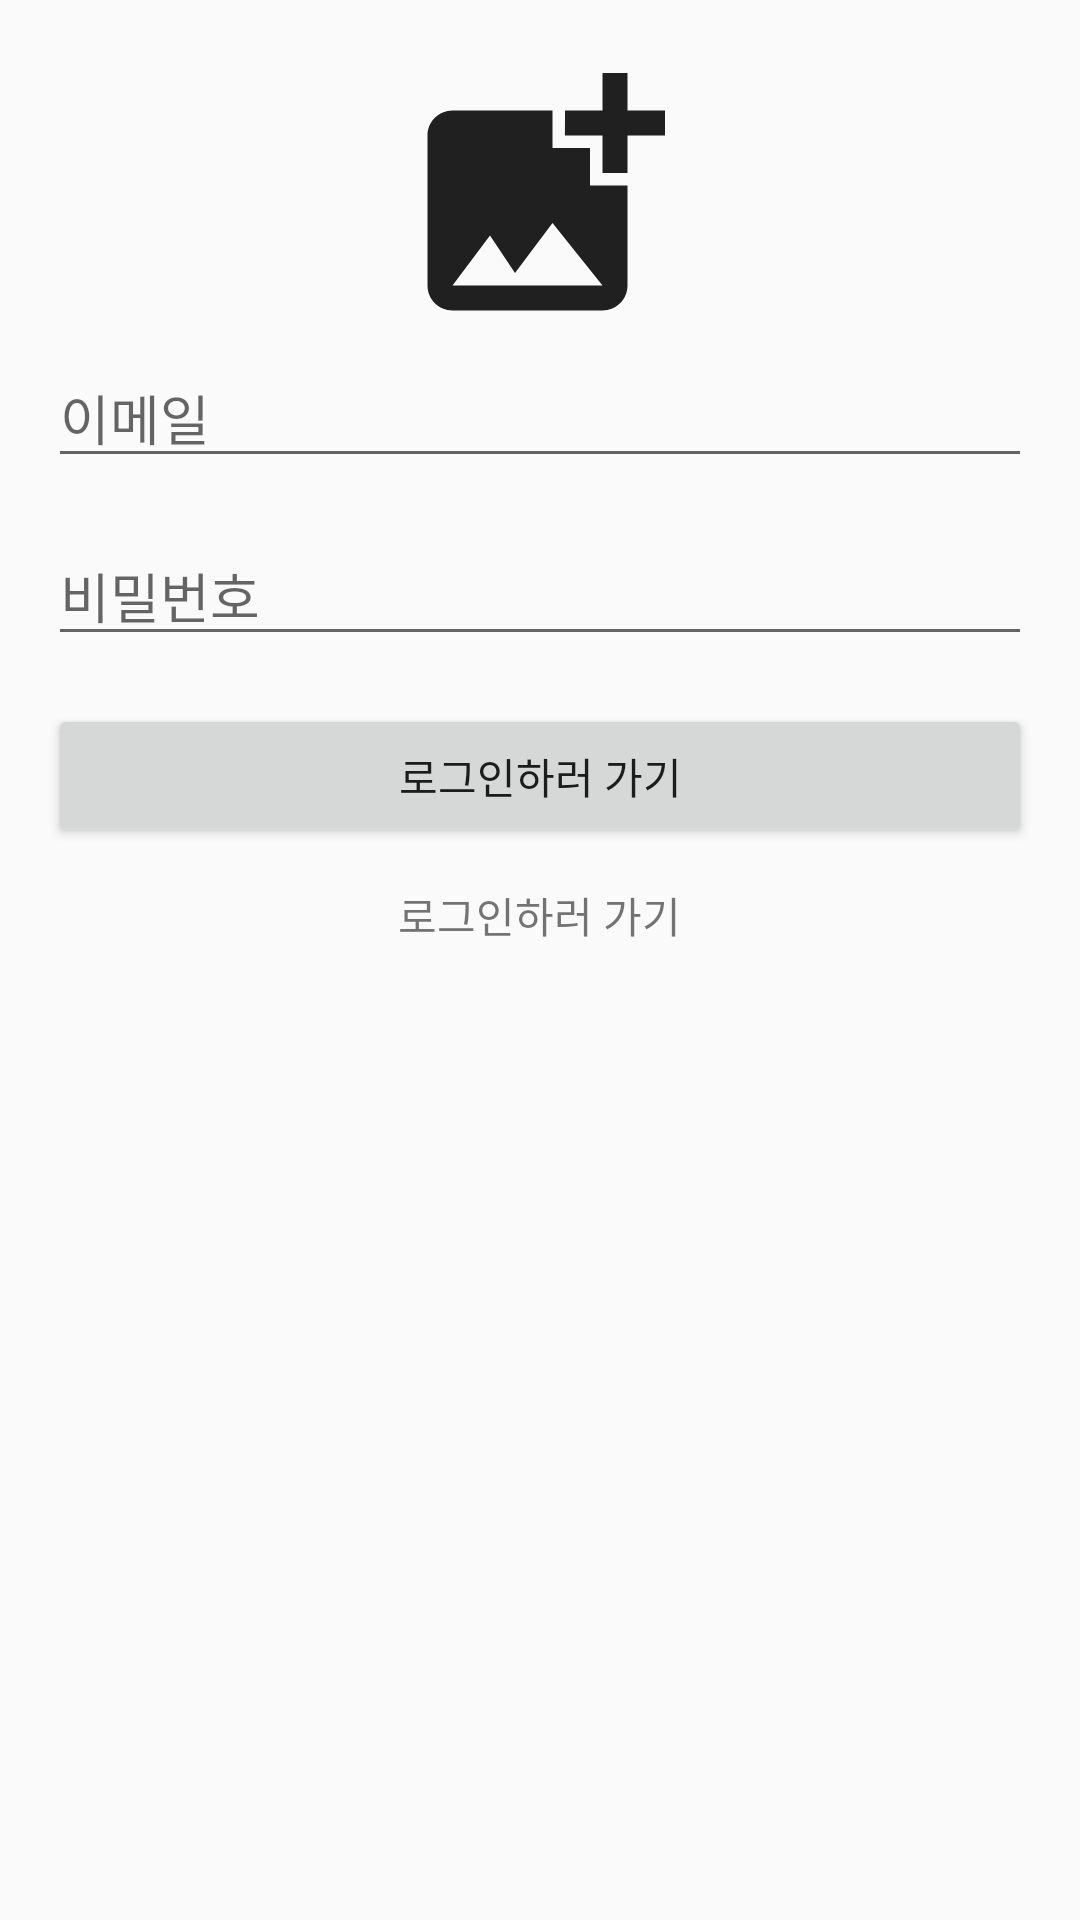

Named icons in this screenshot (1080px×1920px) and their bounding boxes, box=[x1, y1, x2, y2]:
add photo: box=[427, 73, 665, 311]
